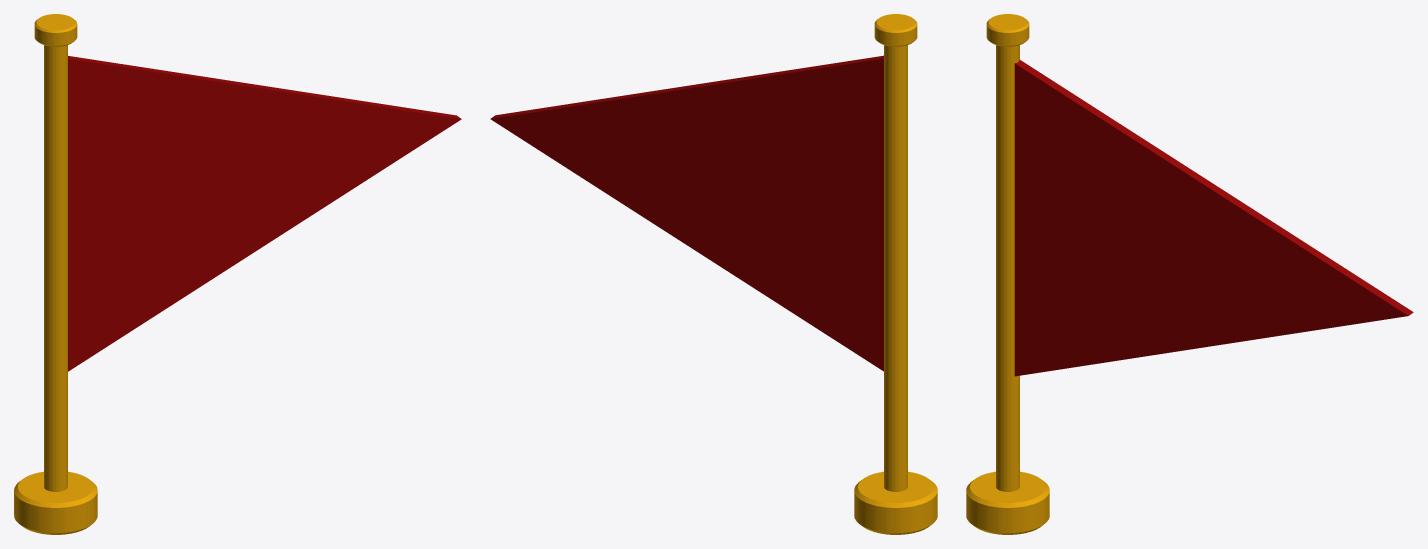
File: Start.fbx
3 views of the same model, side by side, from view 1: azimuth 30°, elevation 25°; view 2: azimuth 150°, elevation 25°; view 3: azimuth 330°, elevation 25° (orthographic).
Visible parts, largest first — view 1: polySurface52; view 2: polySurface52; view 3: polySurface52.
Boxes of the visible parts, bbox=[...] form: polySurface52: bbox=[14, 14, 461, 534]; polySurface52: bbox=[490, 14, 937, 534]; polySurface52: bbox=[966, 14, 1413, 534].
Bounding box in the file's own units: 92.58 × 99.98 × 15.24.
